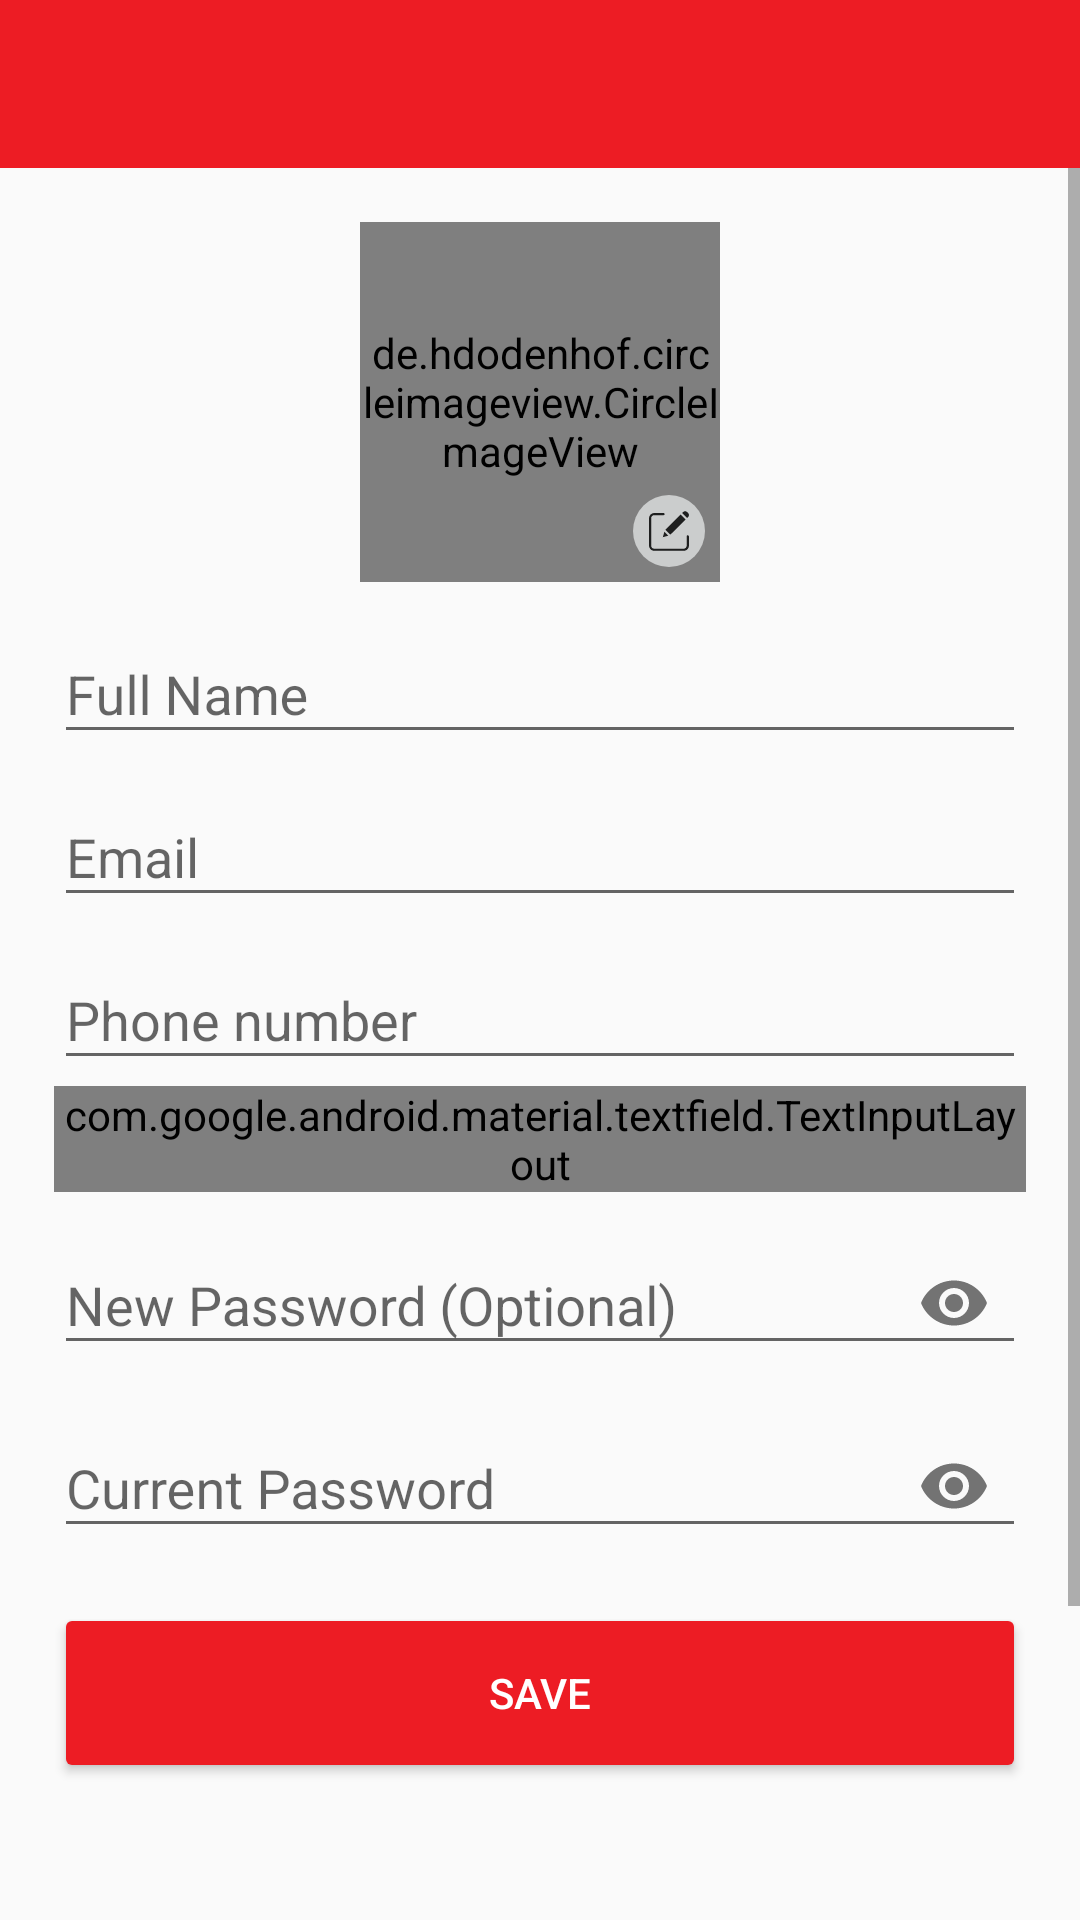

Icon bounding boxes for this 1080 × 1920 phone screenshot, format bbox=[x1, y1, x2, y2]:
edit: bbox=[633, 495, 705, 567]
